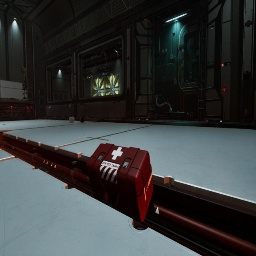0: (69, 117, 75, 123), (0, 95, 7, 99)
FireAlarm ,: (222, 85, 227, 95), (74, 85, 76, 90)
FireExtinguisher ]: (79, 117, 84, 123)
FirstAidBox ,: (86, 143, 153, 222)
SafetySwitchPanel ,: (134, 82, 141, 103)
